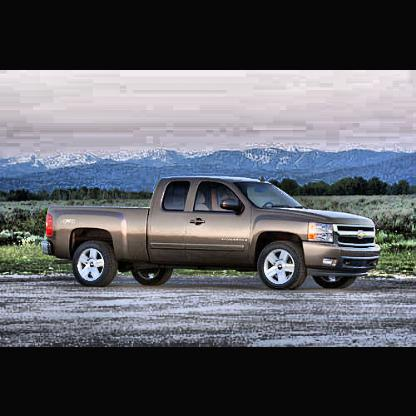Chevrolet Silverado 1500 Extended Cab 2012: (44, 174, 383, 287)
